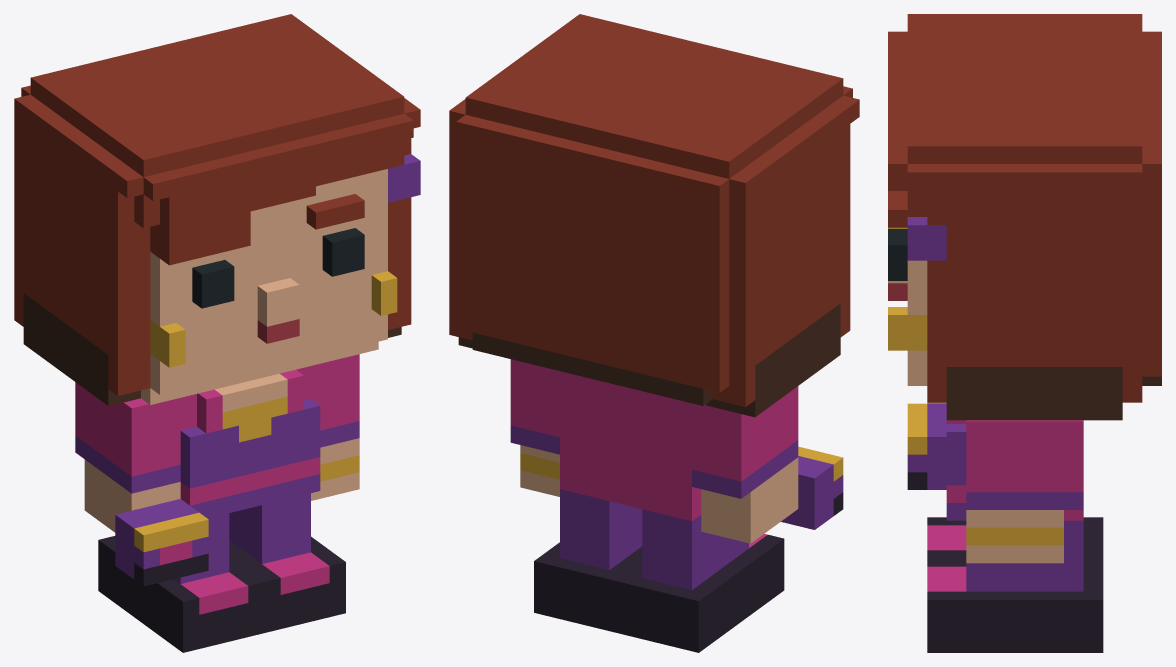
The model's file is party_woman.glb.
3 views of the same model, side by side, from view 1: azimuth 30°, elevation 25°; view 2: azimuth 150°, elevation 25°; view 3: azimuth 270°, elevation 25° (orthographic). The views are drawn at different scales.
Parts seen in each view (by area): view 1: head, arm_left, torso, leg_left, leg_right, arm_right; view 2: head, leg_left, arm_left, torso, leg_right, arm_right; view 3: head, leg_right, arm_right, arm_left, leg_left, torso.
Boxes of the visible parts, box(x1,y1,x2,y2) form: head: box(14, 14, 420, 405); arm_left: box(75, 382, 208, 586); torso: box(180, 366, 320, 518); leg_left: box(98, 513, 264, 652); leg_right: box(229, 493, 345, 632); arm_right: box(311, 354, 359, 500); head: box(449, 14, 859, 417); leg_left: box(616, 509, 784, 652); arm_left: box(692, 386, 843, 543); torso: box(560, 371, 701, 521); leg_right: box(534, 489, 642, 632); arm_right: box(510, 359, 559, 496); head: box(888, 14, 1161, 420); leg_right: box(927, 520, 1103, 652); arm_right: box(966, 420, 1083, 563); arm_left: box(907, 403, 946, 489); leg_left: box(927, 517, 1103, 558); torso: box(946, 420, 1083, 520).
Bounding box in the file's own units: 0.9 × 1.5 × 0.7.
Materials: 1 (1 with a texture image).
